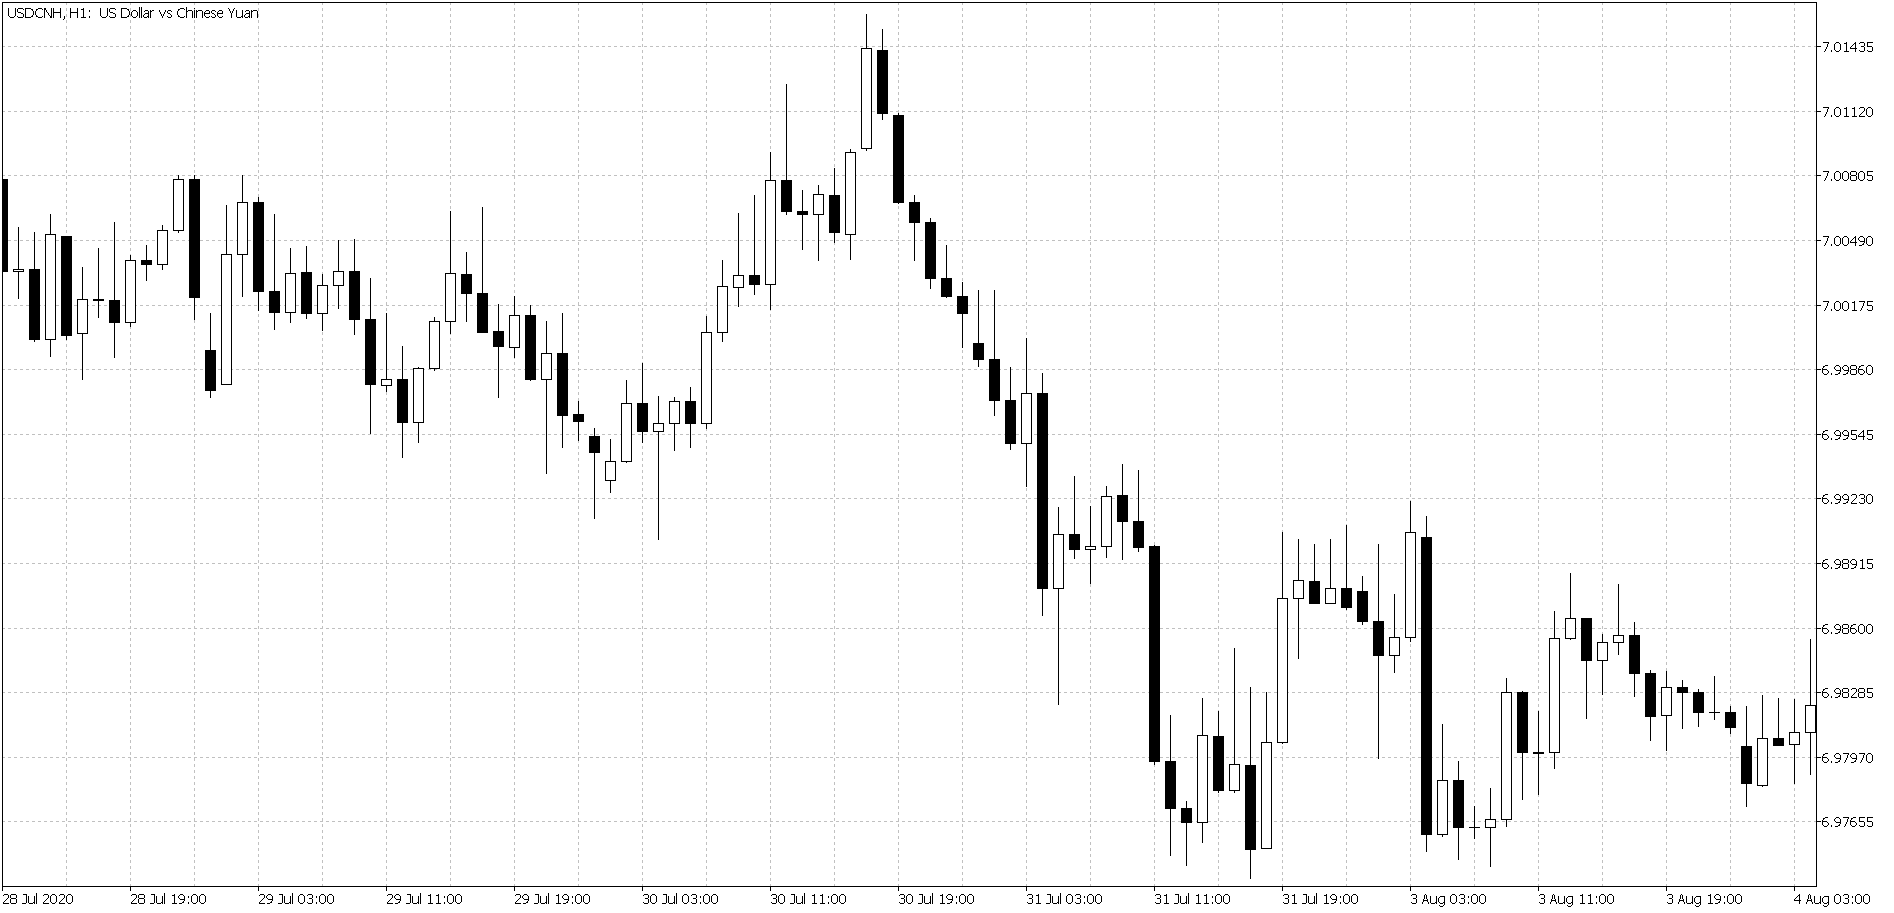3blackcrows: (875, 19, 919, 312)
morningStar: (586, 383, 634, 533), (1164, 716, 1207, 868)
